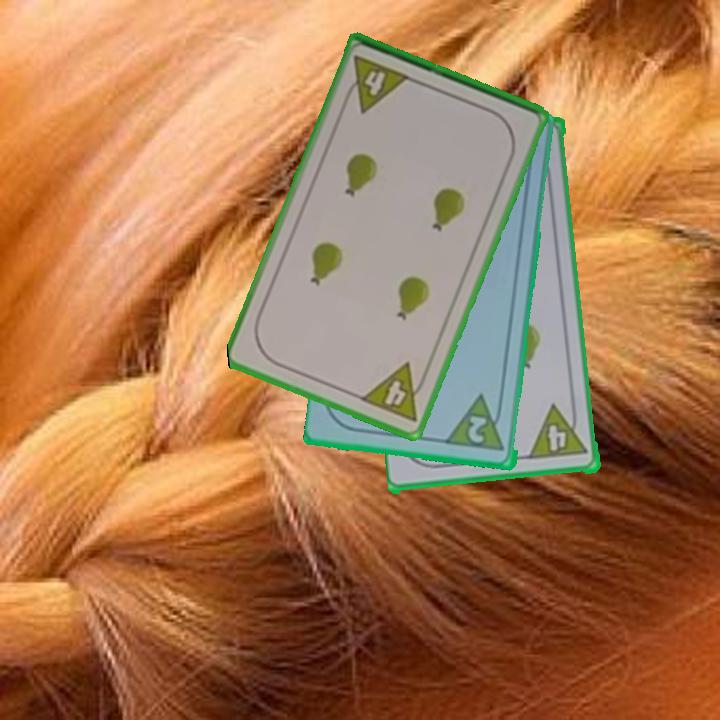2p: (445, 392, 508, 455)
4p: (357, 359, 432, 426), (339, 52, 413, 116), (526, 404, 573, 458)
